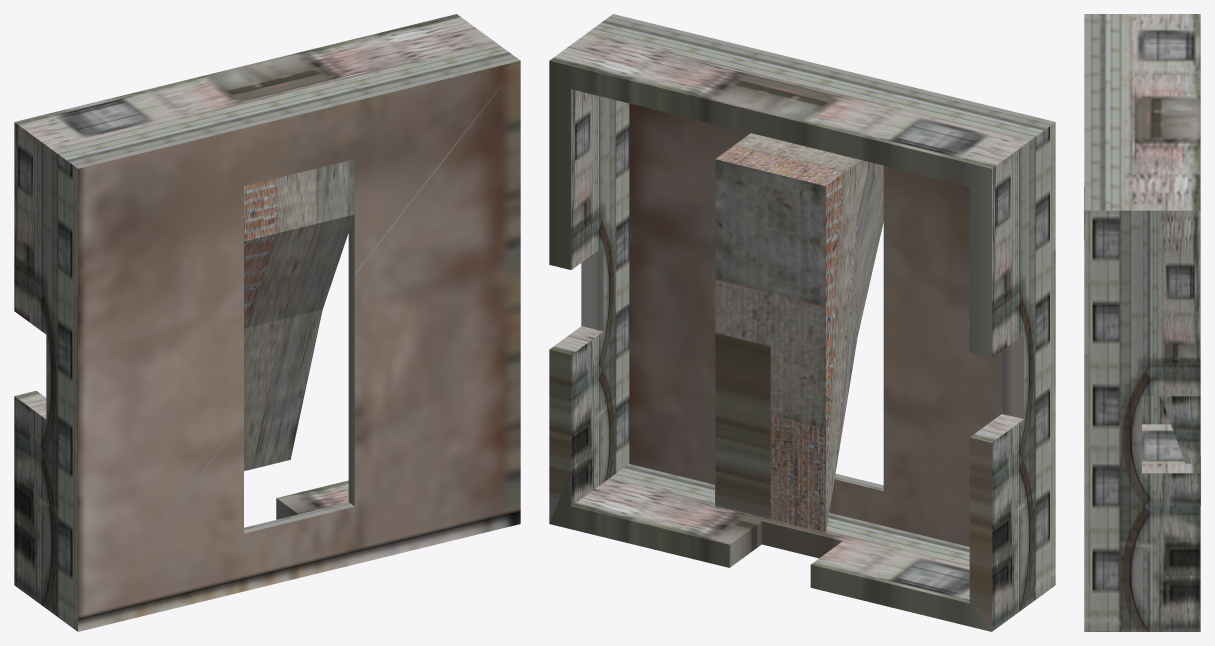
The model's file is 8x8SEW_Nslope_wtf.obj.
3 renders of one model, left to right at view 1: azimuth 30°, elevation 25°; view 2: azimuth 150°, elevation 25°; view 3: azimuth 270°, elevation 25°, orthographic. The views are drawn at different scales.
Parts seen in each view (by area): view 1: group3, group2; view 2: group3, group2; view 3: group3, group2.
Part boxes in pixels (x1,y1,x2,y2): group3: (14, 14, 520, 631); group2: (244, 159, 354, 470); group3: (549, 14, 1055, 631); group2: (715, 133, 883, 533); group3: (1084, 14, 1200, 631); group2: (1084, 187, 1200, 505).
Bounding box in the file's own units: 660 × 660 × 166.
